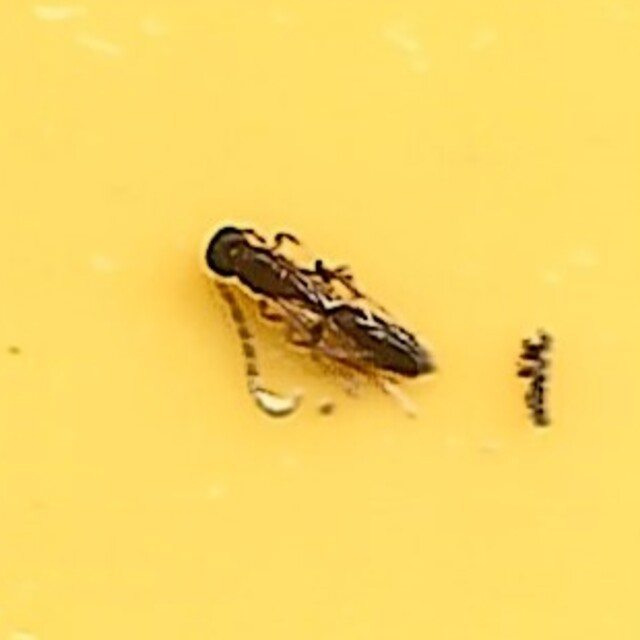Hymenoptera: (206, 221, 434, 419)
